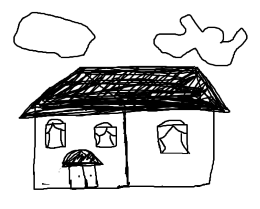clouds: (153, 5, 251, 68), (8, 4, 100, 64)
door: (57, 145, 106, 194)
open_window: (152, 116, 194, 158), (39, 115, 73, 151), (88, 120, 123, 153)
shaded_roof: (9, 61, 241, 119)
wall: (30, 110, 132, 194), (122, 108, 216, 192)
